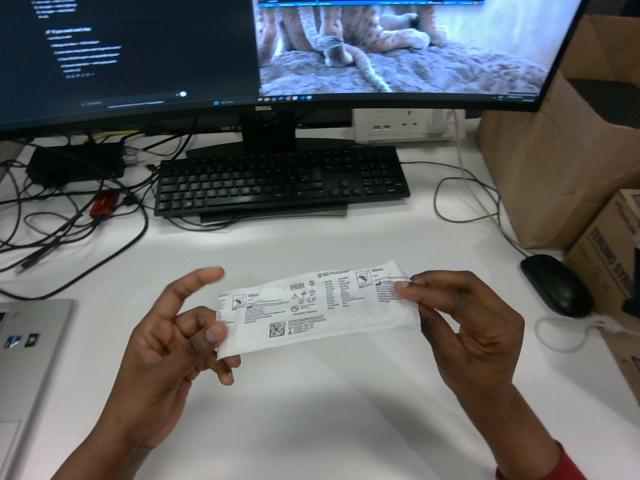syringe: (218, 261, 419, 357)
